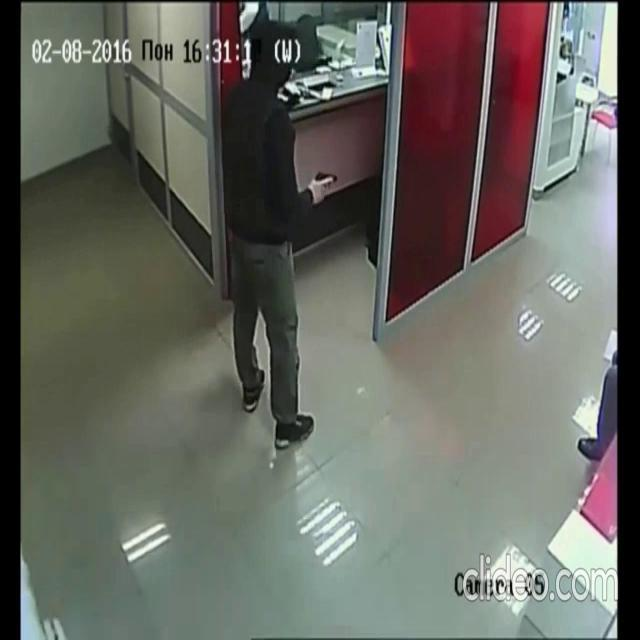pistol: (309, 168, 339, 207)
